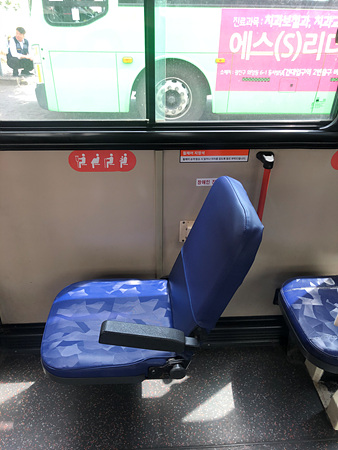seat: (41, 179, 264, 377)
